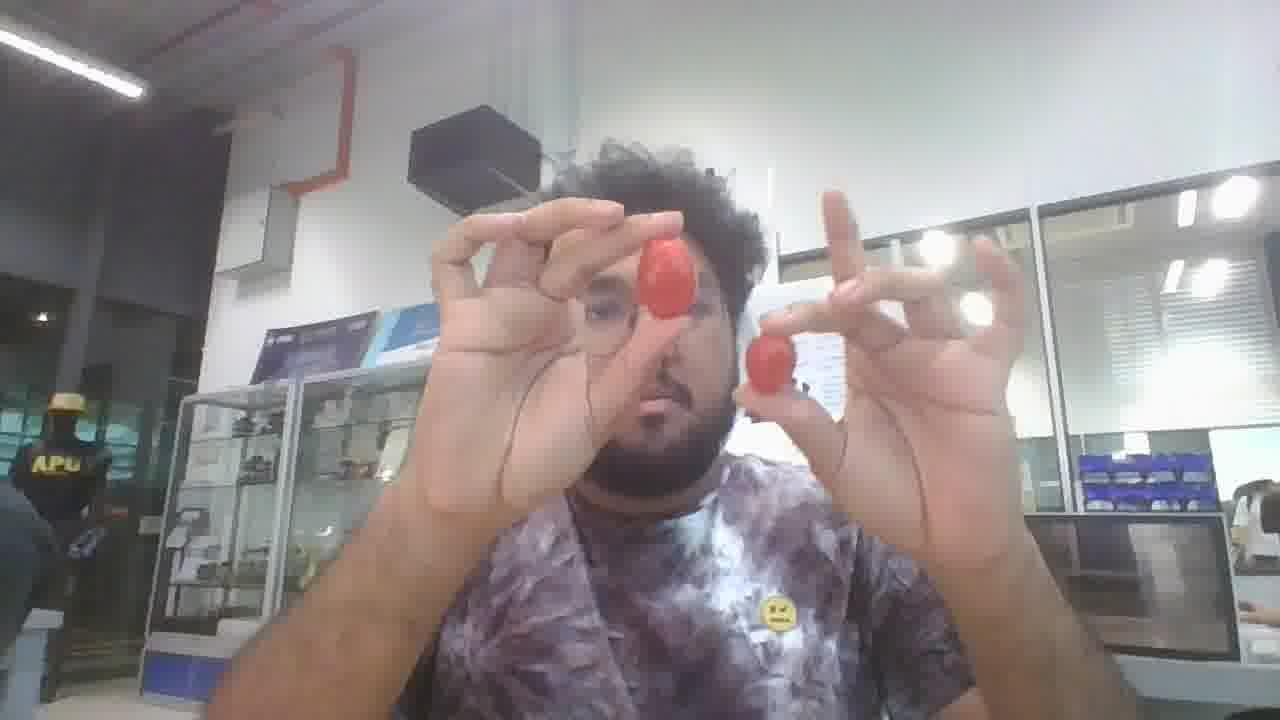red_cherry_tomato: (635, 237, 697, 319), (747, 336, 795, 393)
